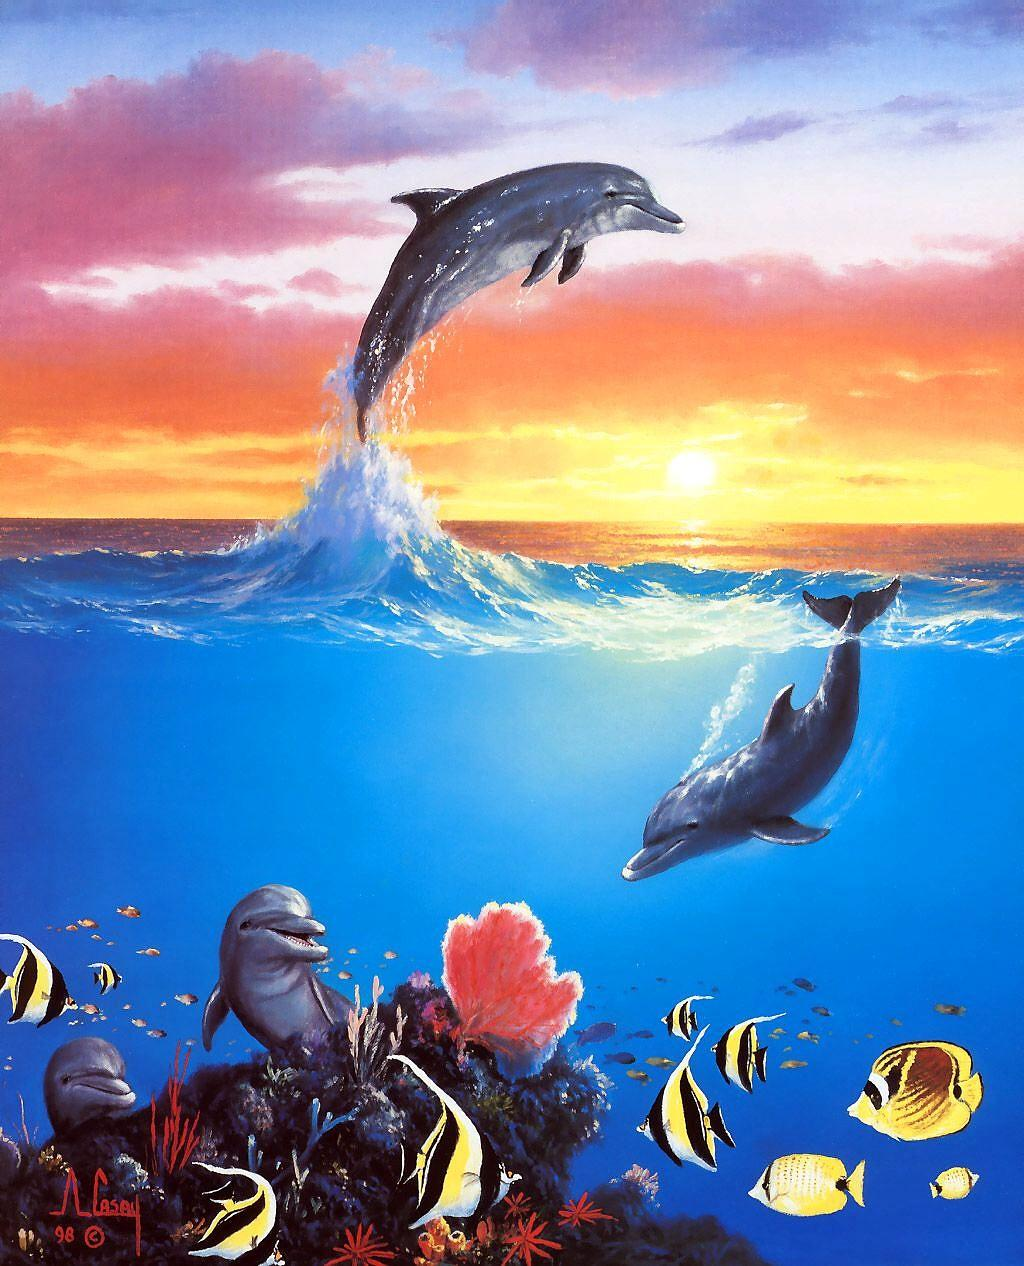dolphin: (322, 105, 688, 458), (611, 561, 902, 895), (180, 880, 368, 1069)
fish: (389, 1066, 522, 1225), (827, 1044, 980, 1139), (628, 1058, 744, 1174), (180, 1167, 293, 1259), (746, 1154, 876, 1218), (3, 938, 77, 1018), (711, 1016, 779, 1093), (659, 990, 722, 1040), (925, 1166, 990, 1208)
